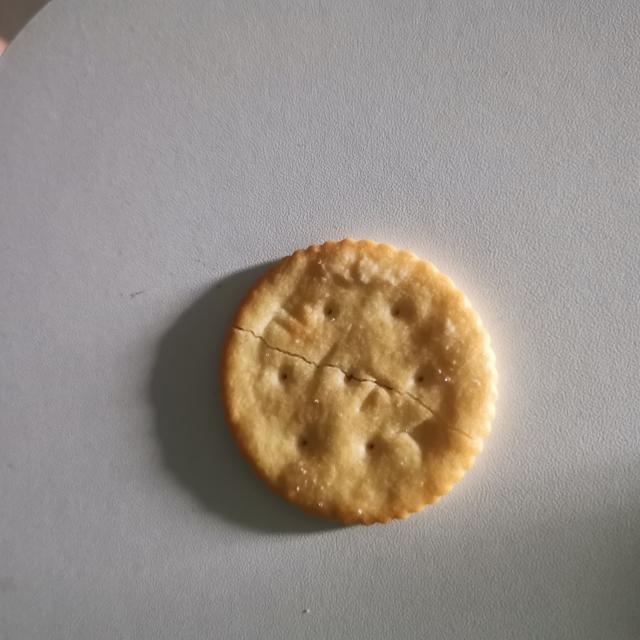Fracture: (220, 307, 490, 463)
